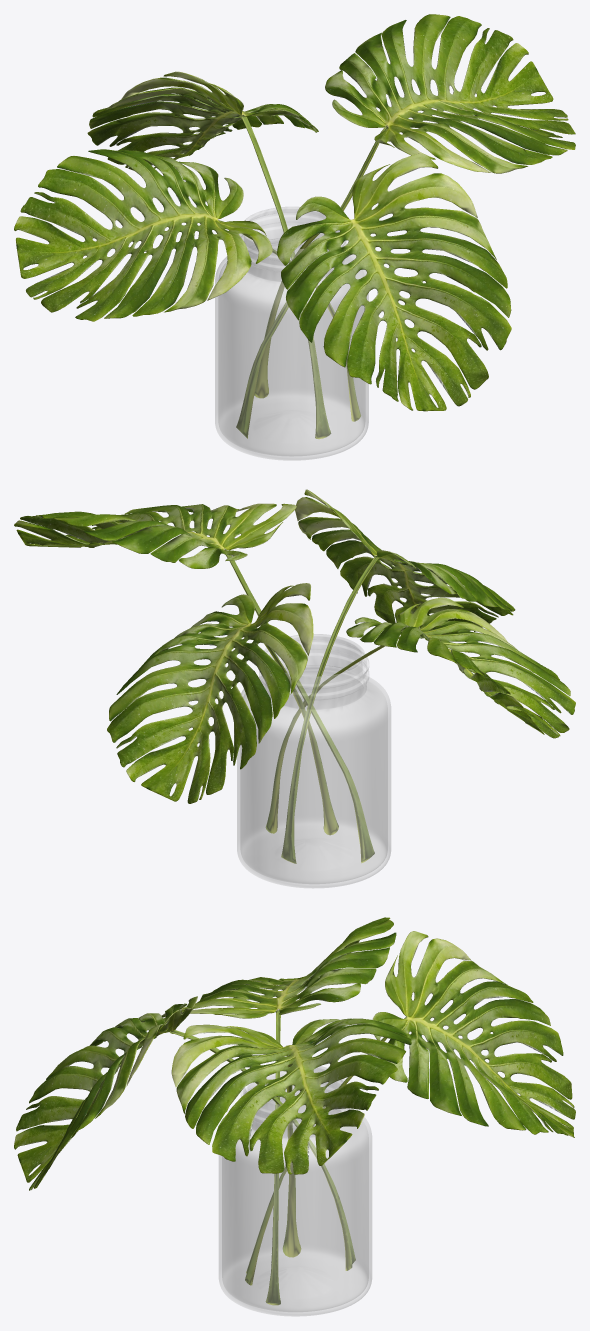
Rendered from table_plant.glb.
3 renders of one model, top to bottom at view 1: azimuth 30°, elevation 25°; view 2: azimuth 150°, elevation 25°; view 3: azimuth 270°, elevation 25°, orthographic.
Parts seen in each view (by area): view 1: leaf_1, vase; view 2: leaf_1, vase; view 3: leaf_1, vase.
Boxes of the visible parts, bbox=[...] form: leaf_1: bbox=[14, 14, 575, 438]; vase: bbox=[215, 207, 368, 460]; leaf_1: bbox=[14, 489, 575, 863]; vase: bbox=[237, 634, 390, 888]; leaf_1: bbox=[14, 917, 575, 1305]; vase: bbox=[219, 1066, 371, 1316].
Bounding box in the file's own units: 0.6843 × 0.4084 × 0.6306.
Materials: 2 (1 with a texture image).
